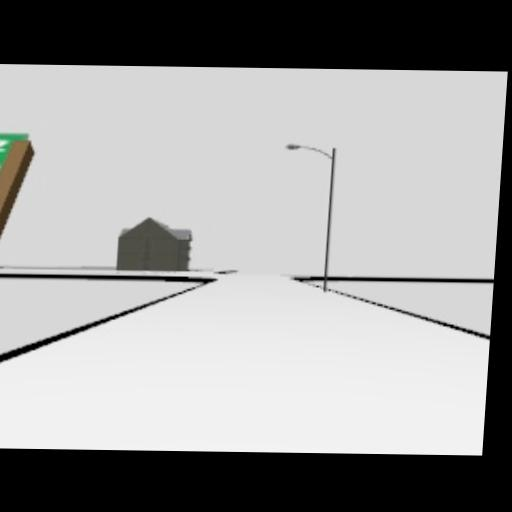Right: (0, 162, 1, 172)
Z: (0, 138, 9, 150)
